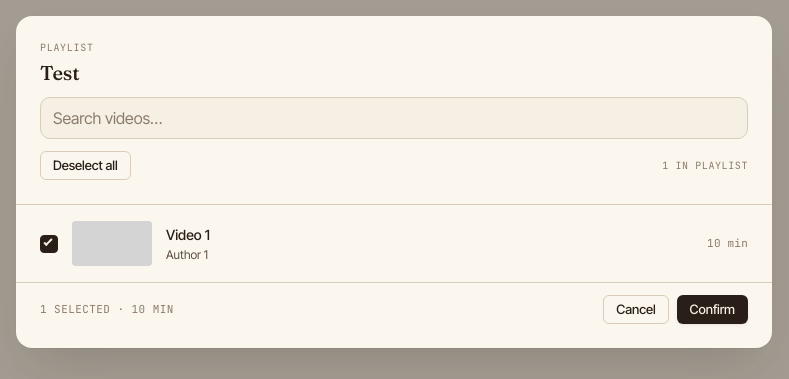
it: PlaylistPickerPopup › confirm is disabled when no videos selected
# Deselect the only video
What coordinates should you click on to do the following:
click the text "Video 1"
I would click on:
 (112, 244)
Its box is [40,209,748,278].
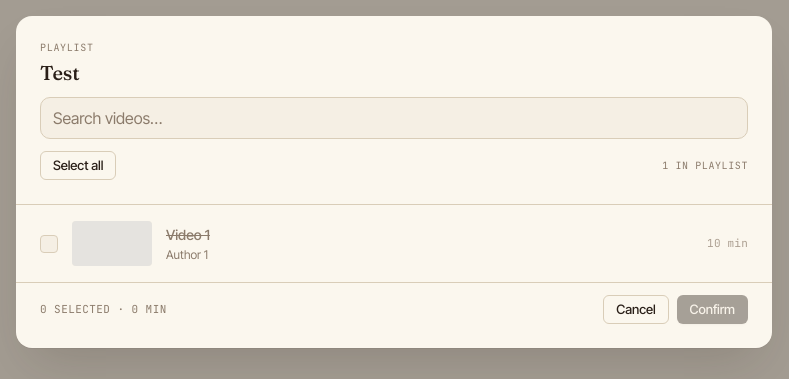
Now the button "Confirm" is disabled, box [677,295,748,324]
